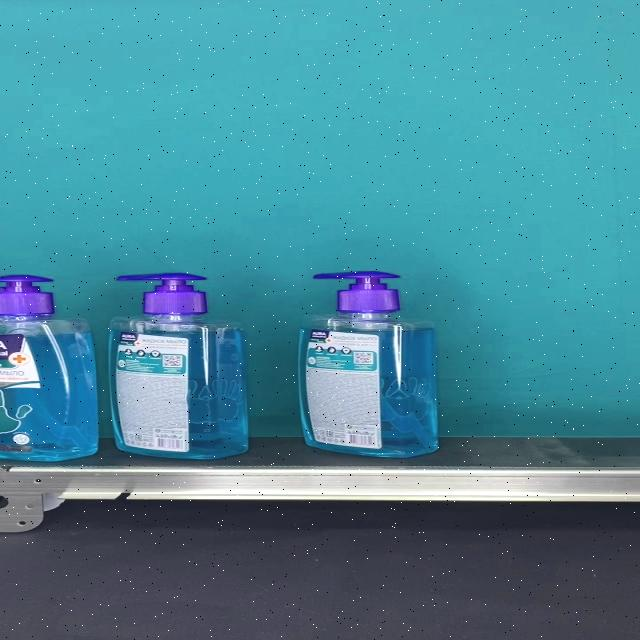Bottle: (111, 273, 252, 459), (304, 271, 443, 458)
Cap: (120, 273, 212, 315), (316, 270, 405, 312)
